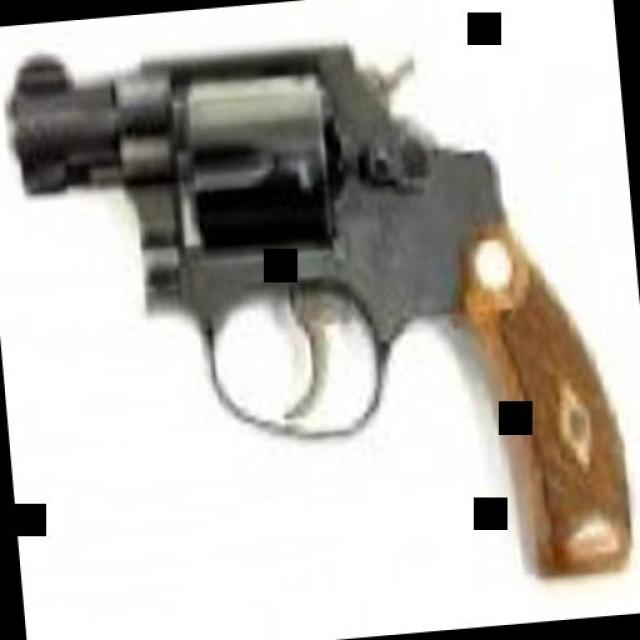gun: (14, 0, 640, 625)
